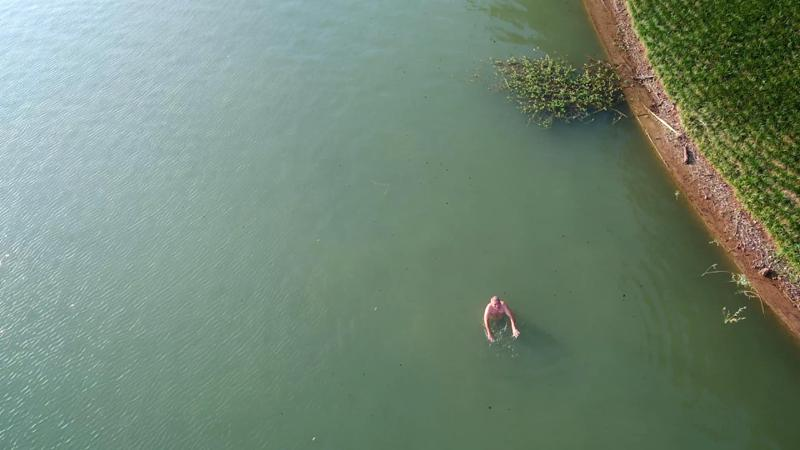swimmers: (482, 294, 520, 343)
